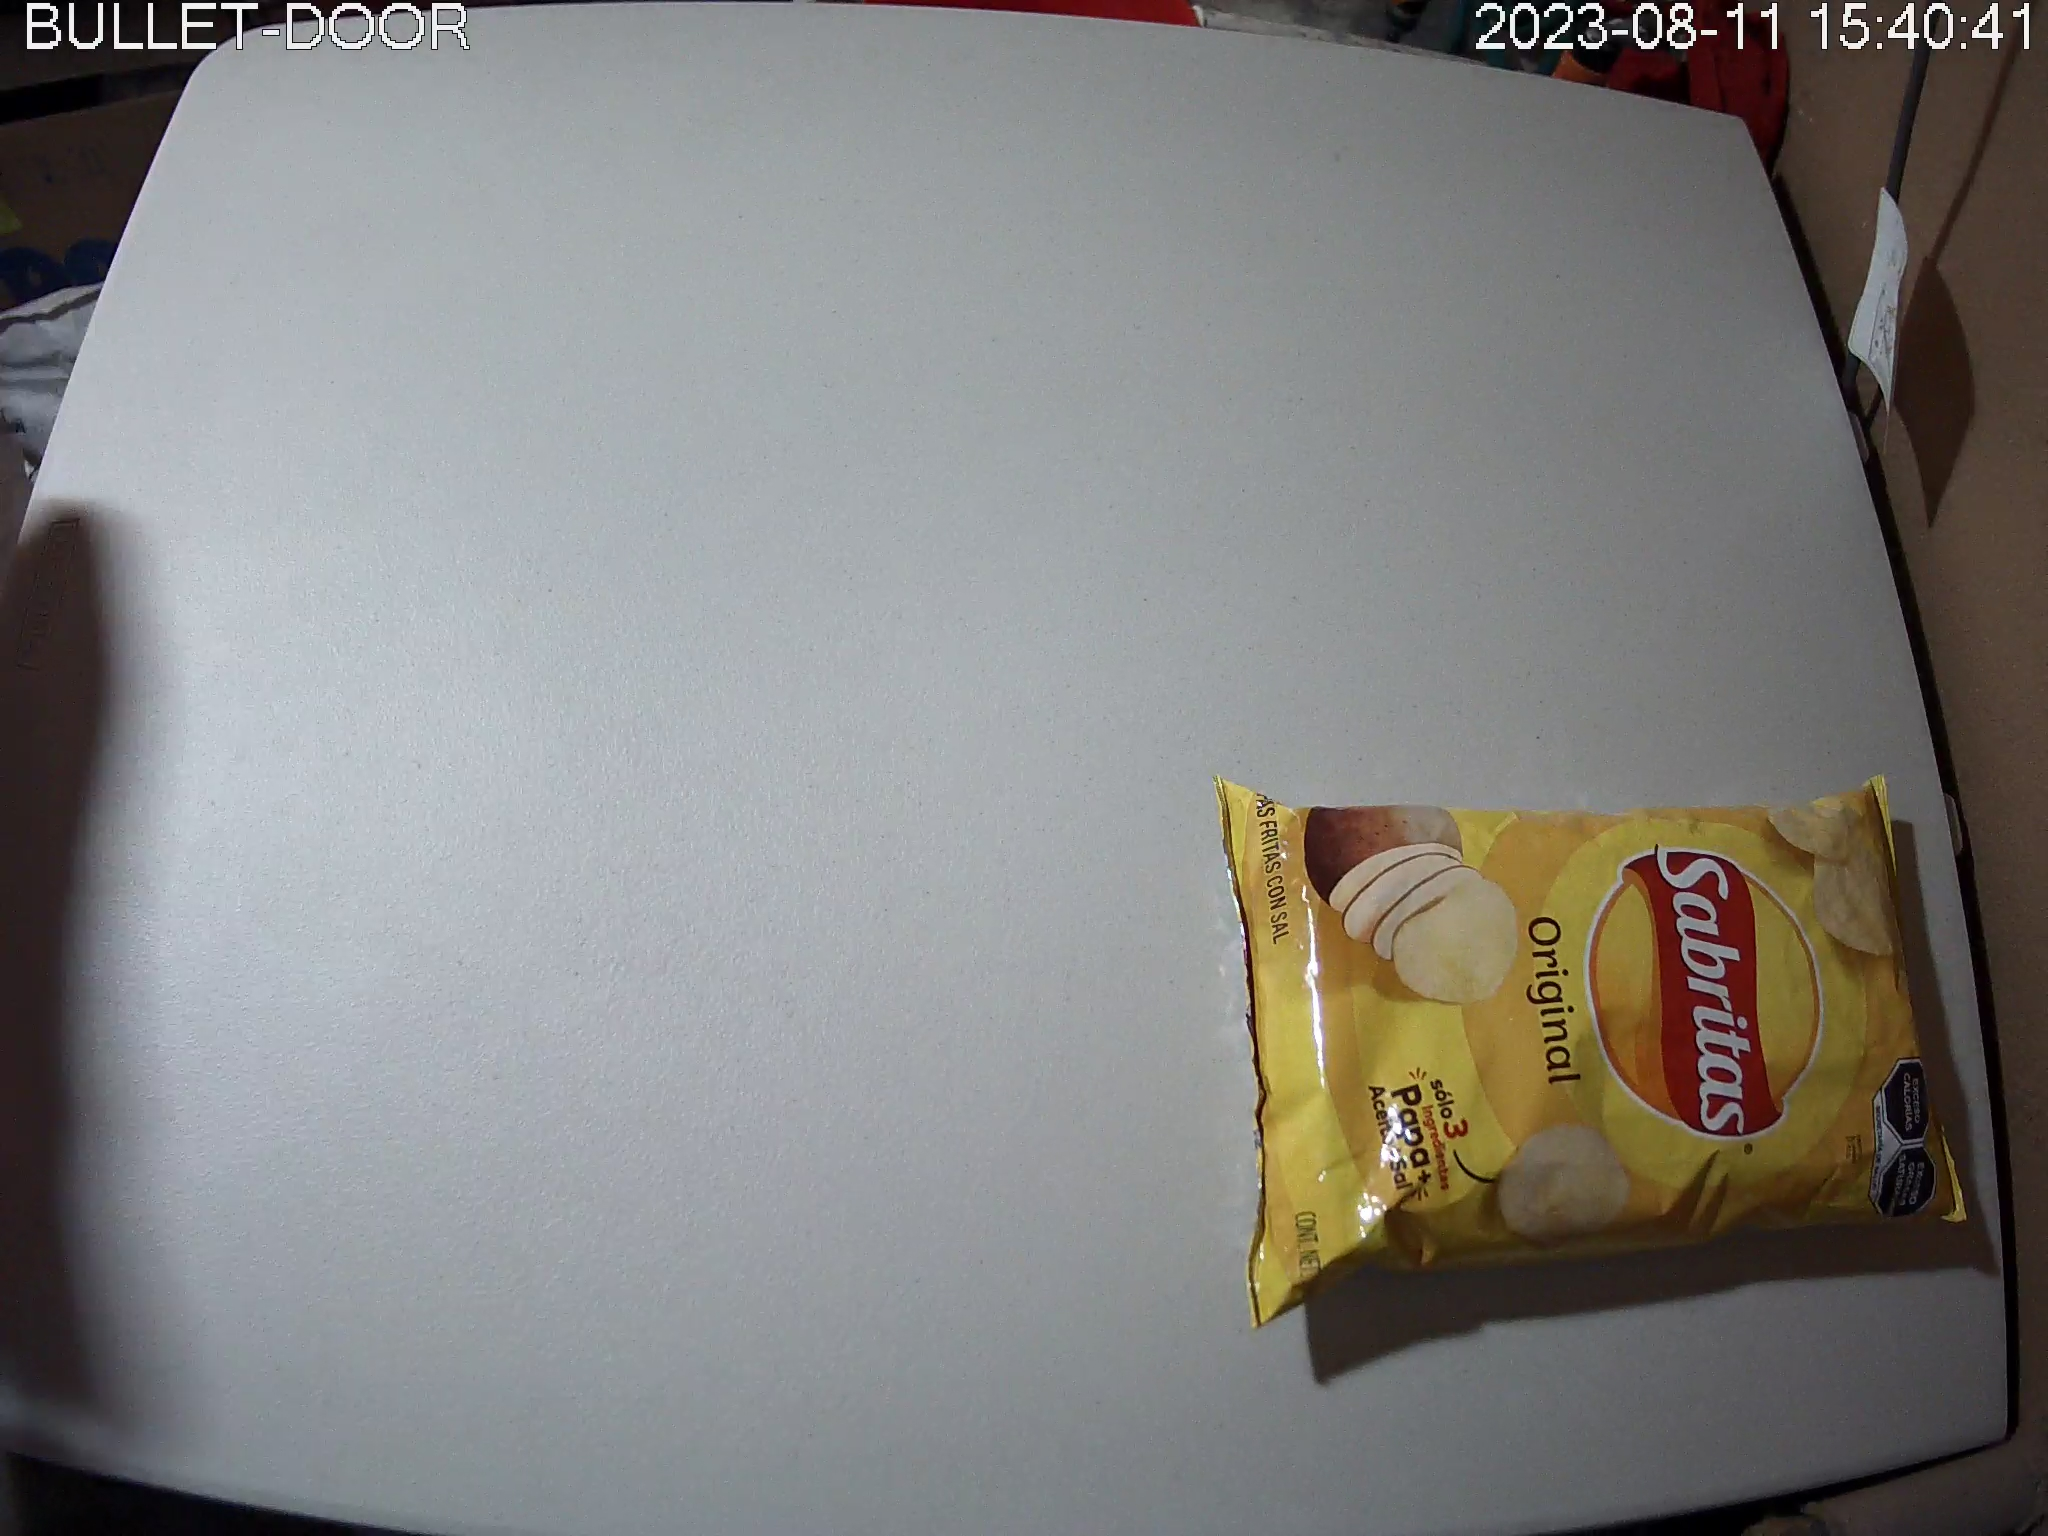Sabritas_160_F: (1213, 773, 1969, 1333)
